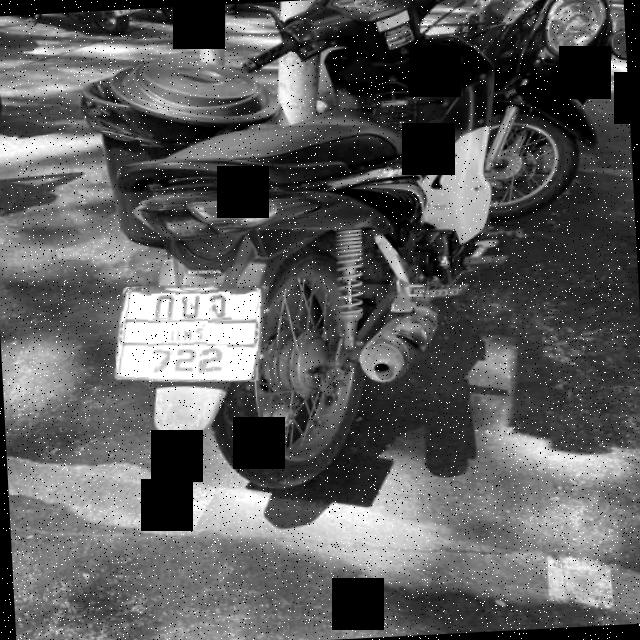letters: (200, 344, 229, 376), (172, 344, 200, 374), (208, 290, 232, 322), (178, 292, 202, 322), (152, 293, 176, 320), (154, 344, 171, 374)
license-plate: (116, 288, 265, 381)
province: (161, 318, 209, 349)
